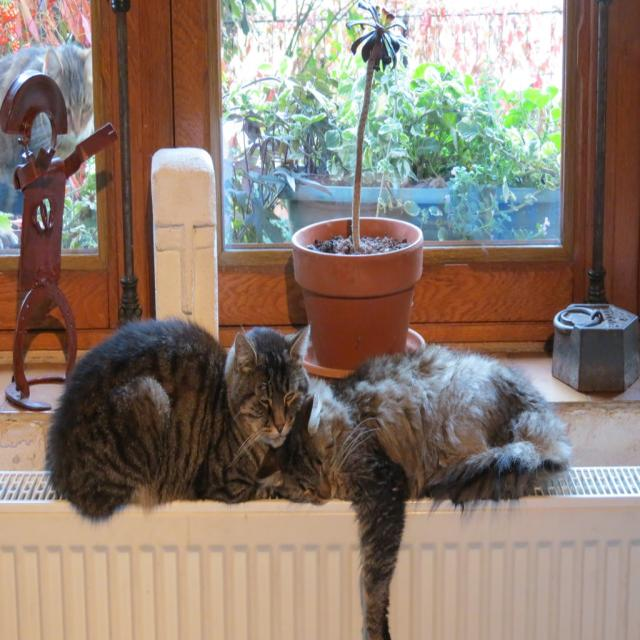Cat: (252, 345, 576, 638), (38, 311, 310, 531)
